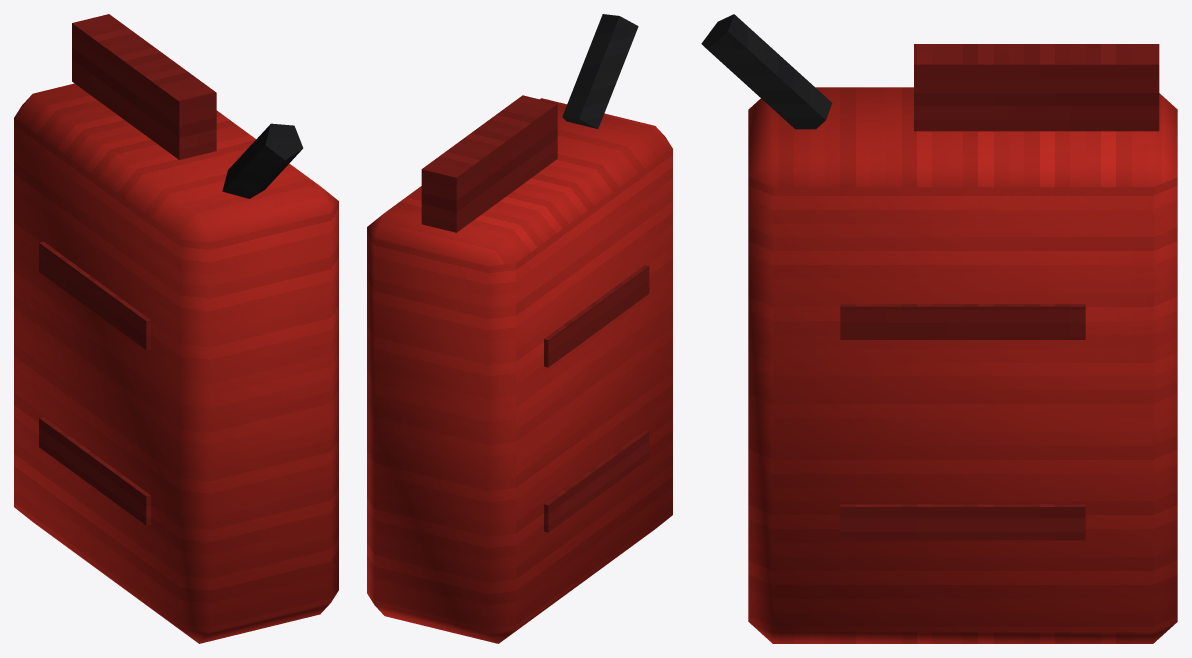
Rendered from galao_combustivel.glb.
3 views of the same model, side by side, from view 1: azimuth 30°, elevation 25°; view 2: azimuth 150°, elevation 25°; view 3: azimuth 270°, elevation 25° (orthographic). The views are drawn at different scales.
Parts seen in each view (by area): view 1: Inteiro; view 2: Inteiro; view 3: Inteiro.
Boxes of the visible parts, x1=… form: Inteiro: x1=14, y1=14, x2=338, y2=643; Inteiro: x1=367, y1=14, x2=672, y2=643; Inteiro: x1=701, y1=14, x2=1177, y2=643.
Bounding box in the file's own units: 0.18 × 0.5334 × 0.3884.
1 material, 1 textured.
